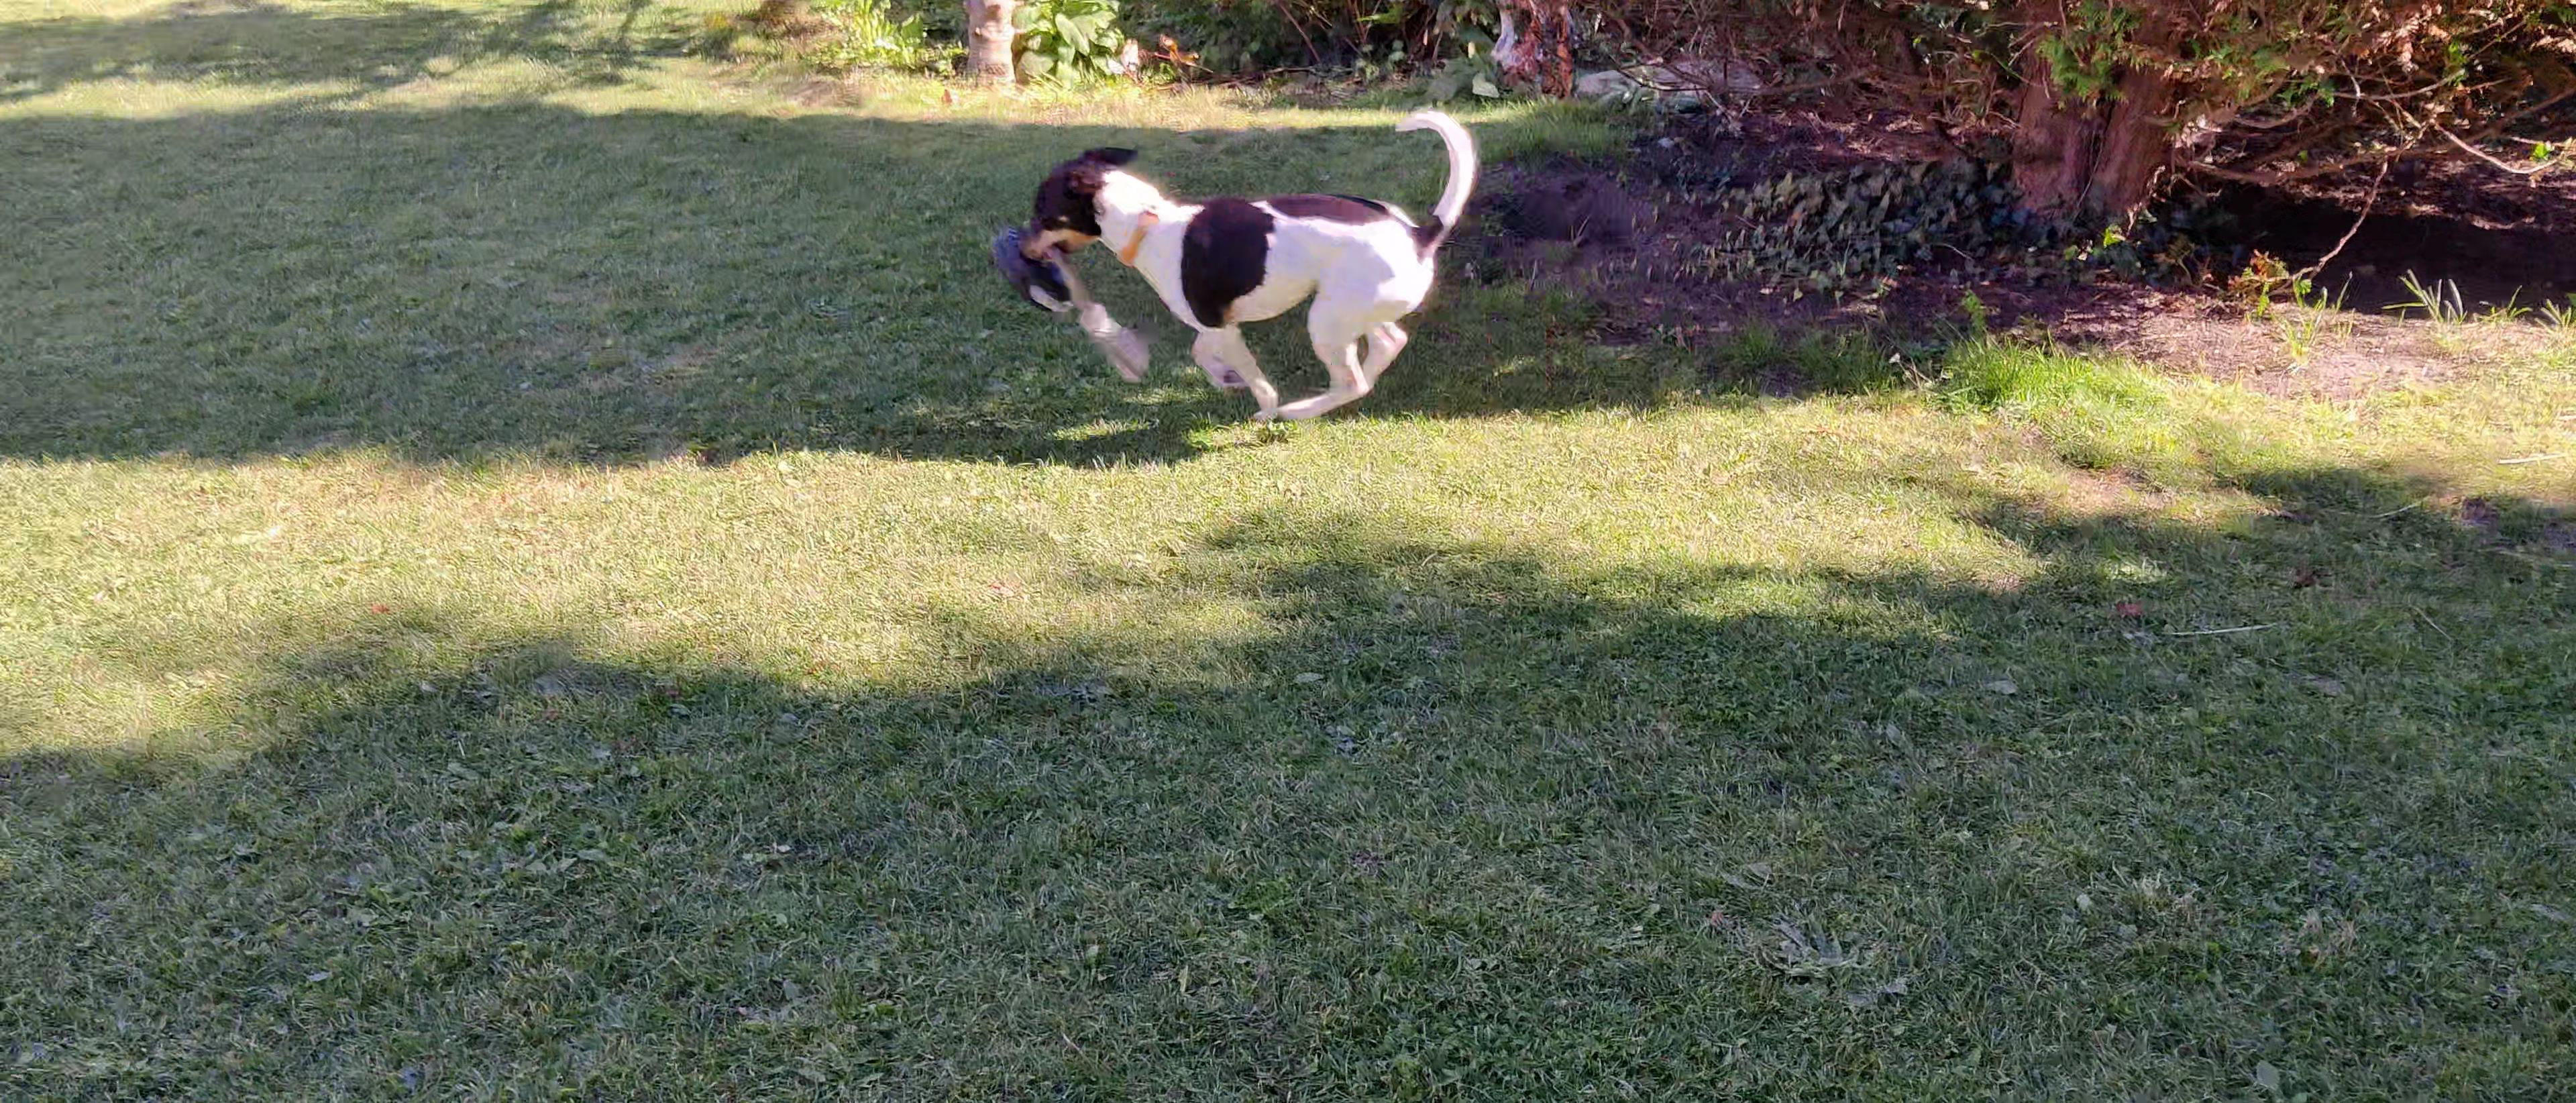Dog: (1005, 90, 1493, 457)
